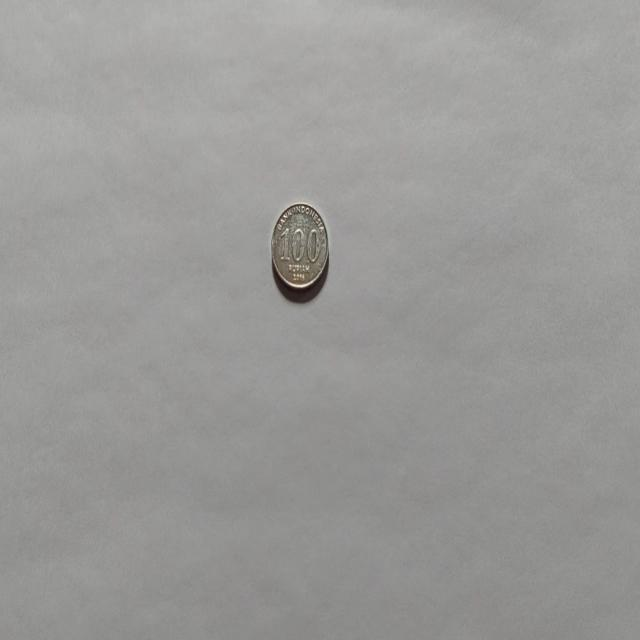seratus rupiah: (270, 200, 329, 294)
